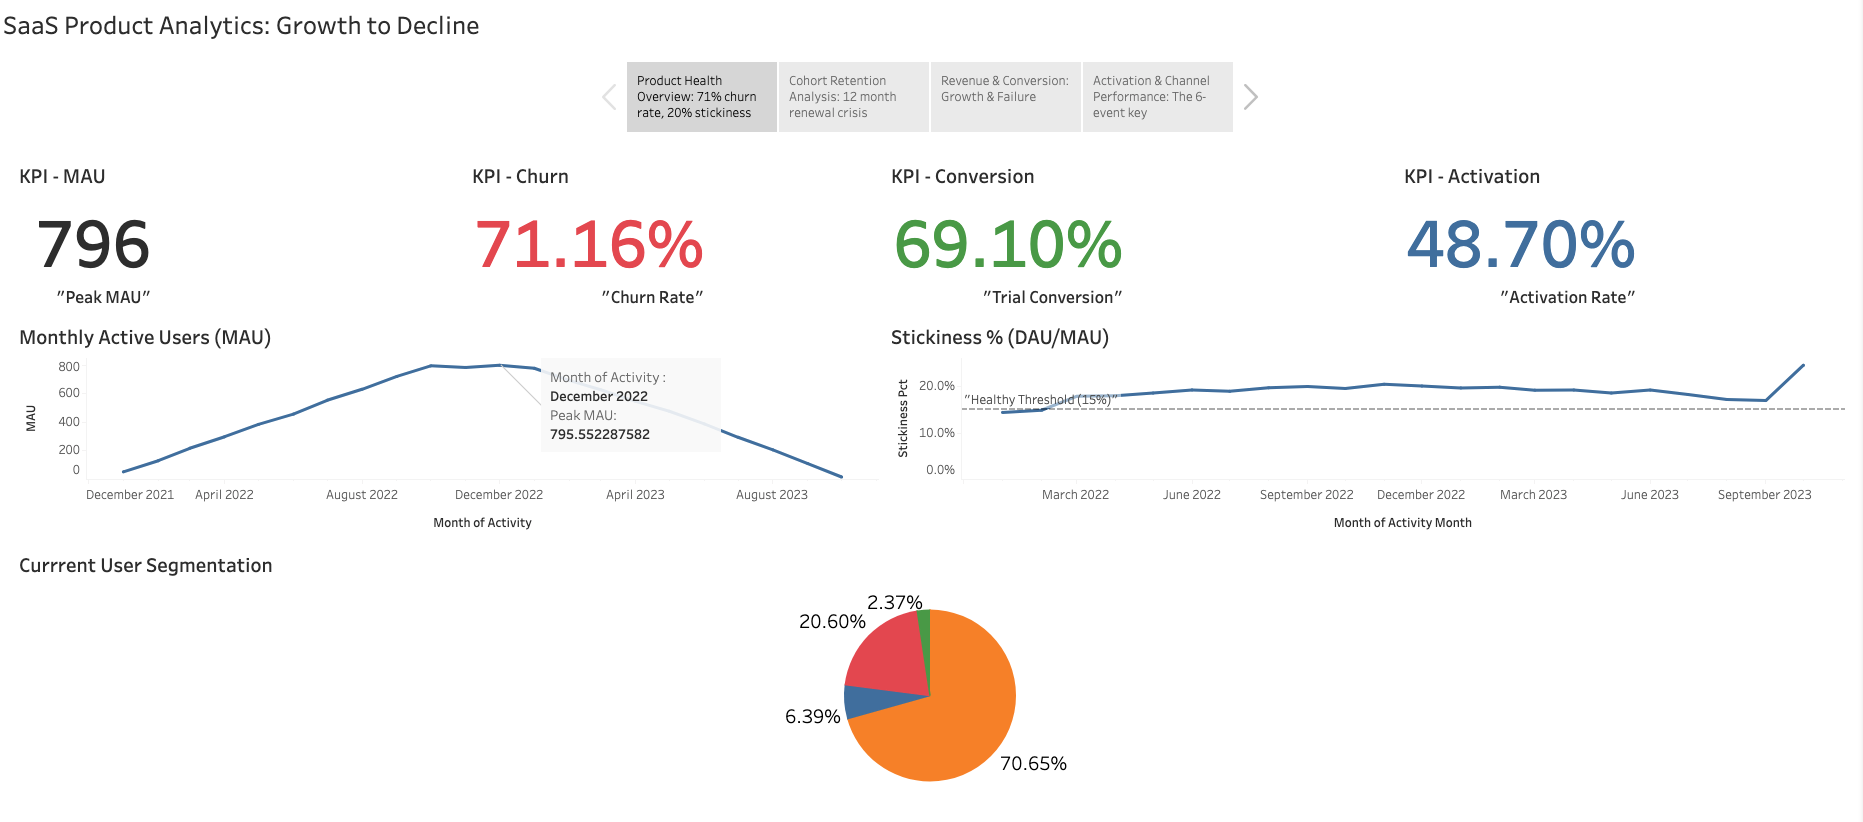

The dashboard page shown, as its layout file describes it:
{"tool":"tableau","page":{"name":"Dashboard 1 - Product Health","canvas":[1000,1000],"units":"permille","ordinal":0},"visuals":[{"type":"worksheet","title":"KPI 1: Peak MAU","mark":"Automatic","box":[5.5,9.6,244,240.2]},{"type":"worksheet","title":"KPI 2: Churn Rate","mark":"Automatic","box":[249.4,9.6,225.3,240.2]},{"type":"worksheet","title":"KPI 3: Trial Conversion","mark":"Automatic","box":[474.8,9.6,275.7,240.2]},{"type":"worksheet","title":"KPI 4: Activation","mark":"Automatic","box":[750.5,9.6,244,240.2]},{"type":"worksheet","title":"MAU Trend","mark":"Automatic","rows":["mau"],"cols":["activity_month"],"box":[5.5,249.7,469.3,339.5]},{"type":"worksheet","title":"Stickiness","mark":"Line","rows":["stickiness_pct"],"cols":["activity_month"],"box":[474.8,249.7,519.8,339.5]},{"type":"worksheet","title":"User Segments","mark":"Pie","box":[5.5,589.3,989.1,401.2]}]}

Visuals, with their boxes on the dashboard's canvas, which has no fixed pixel size, in thousandths of its width and height (x1, y1, x2, y2). These are canvas units, not pixel positions in the 1863x822 screenshot, which may show the page scaled, cropped or inside an application window:
"KPI 1: Peak MAU" worksheet: 6:10:250:250
"KPI 2: Churn Rate" worksheet: 249:10:475:250
"KPI 3: Trial Conversion" worksheet: 475:10:750:250
"KPI 4: Activation" worksheet: 750:10:994:250
"MAU Trend" worksheet: 6:250:475:589
"Stickiness" worksheet (Line marks): 475:250:995:589
"User Segments" worksheet (Pie marks): 6:589:995:990
